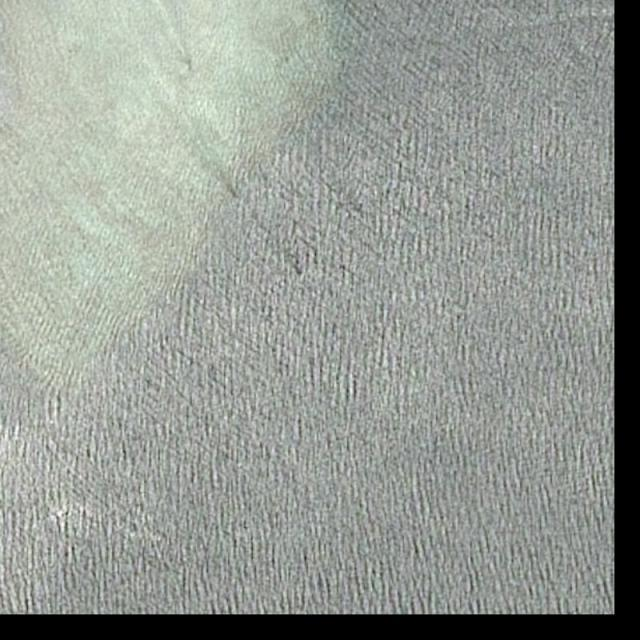ship: (293, 264, 303, 276), (186, 61, 193, 72), (230, 189, 238, 198)
